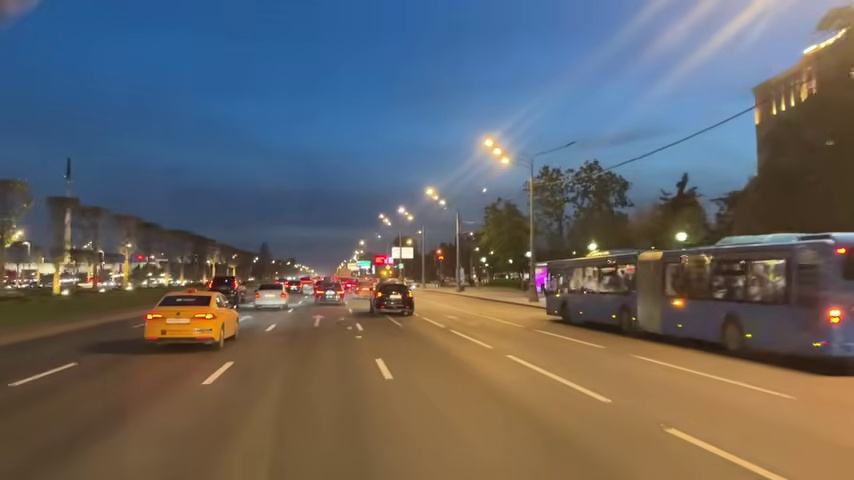acesa: (480, 135, 511, 166), (425, 185, 445, 205), (398, 208, 413, 223)
